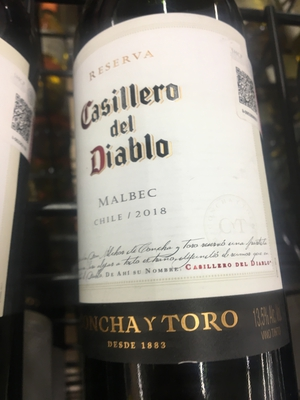casillero del diablo malbec: (65, 12, 294, 400)
